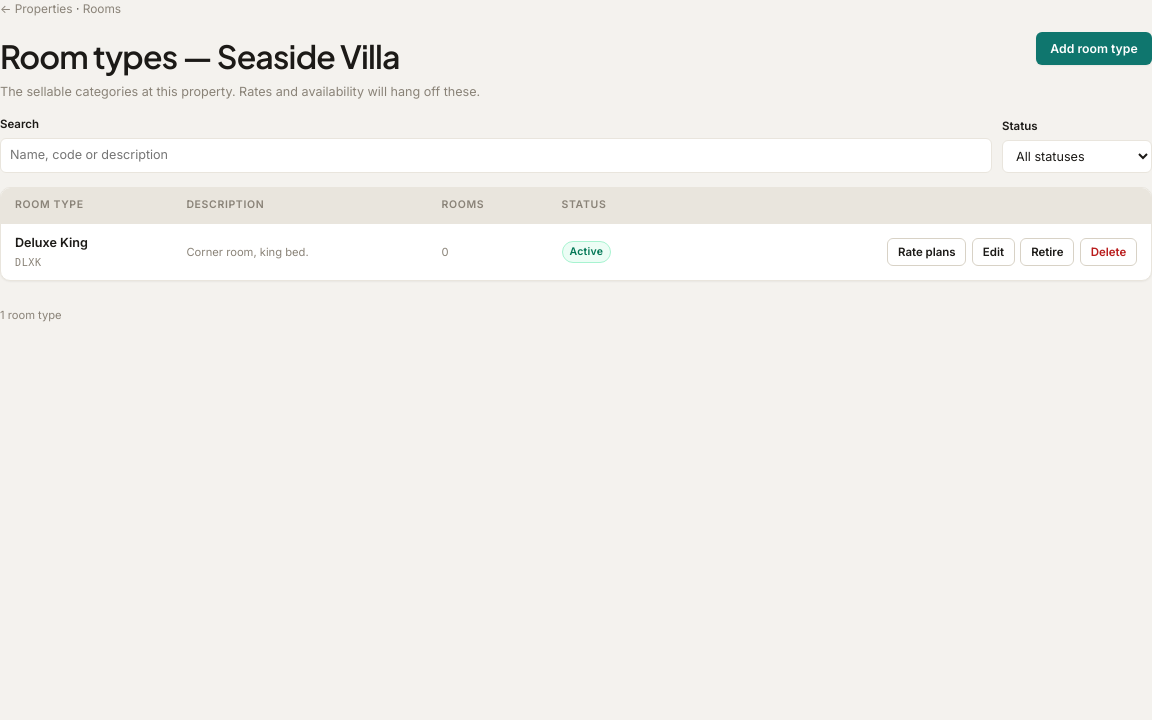
RoomTypesPage — retire, restore and delete › shows the API conflict verbatim when a delete races an assignment
The width and height of the screenshot is (1152, 720).
Check: the text "Deluxe King" is shown, box [15, 235, 88, 250]
Click the button "Delete".
click(1108, 252)  # box [1080, 238, 1137, 266]
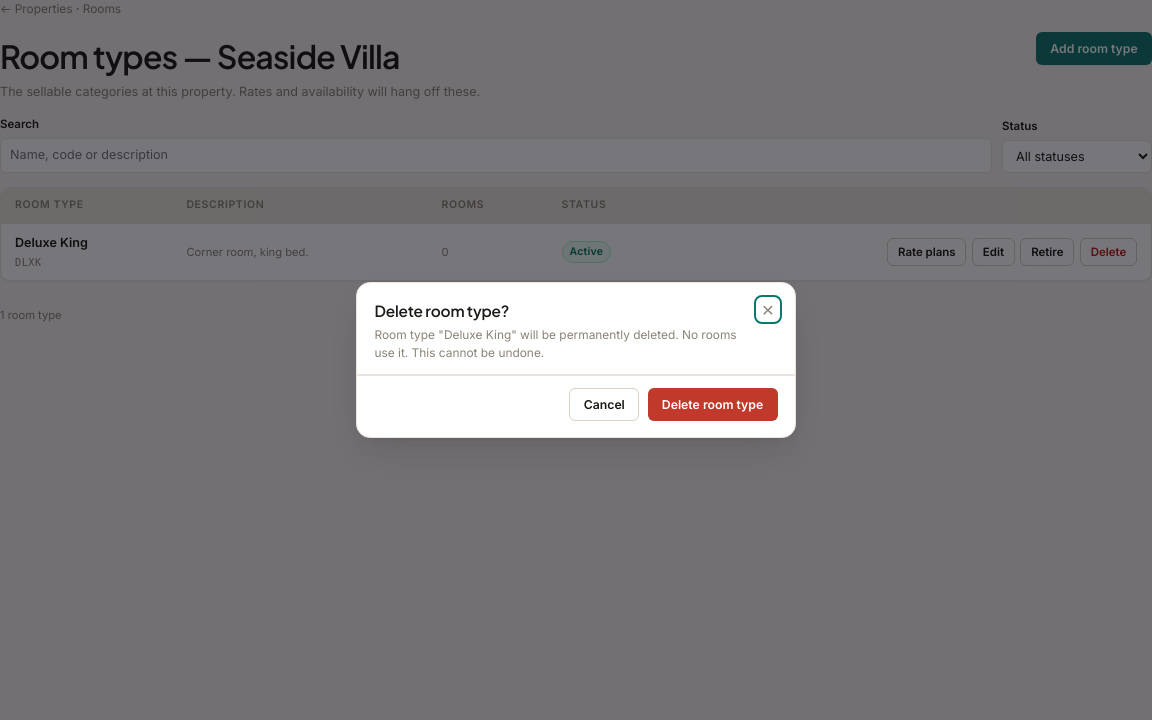
Click the button "Delete room type".
click(712, 405)  # box [648, 388, 778, 421]
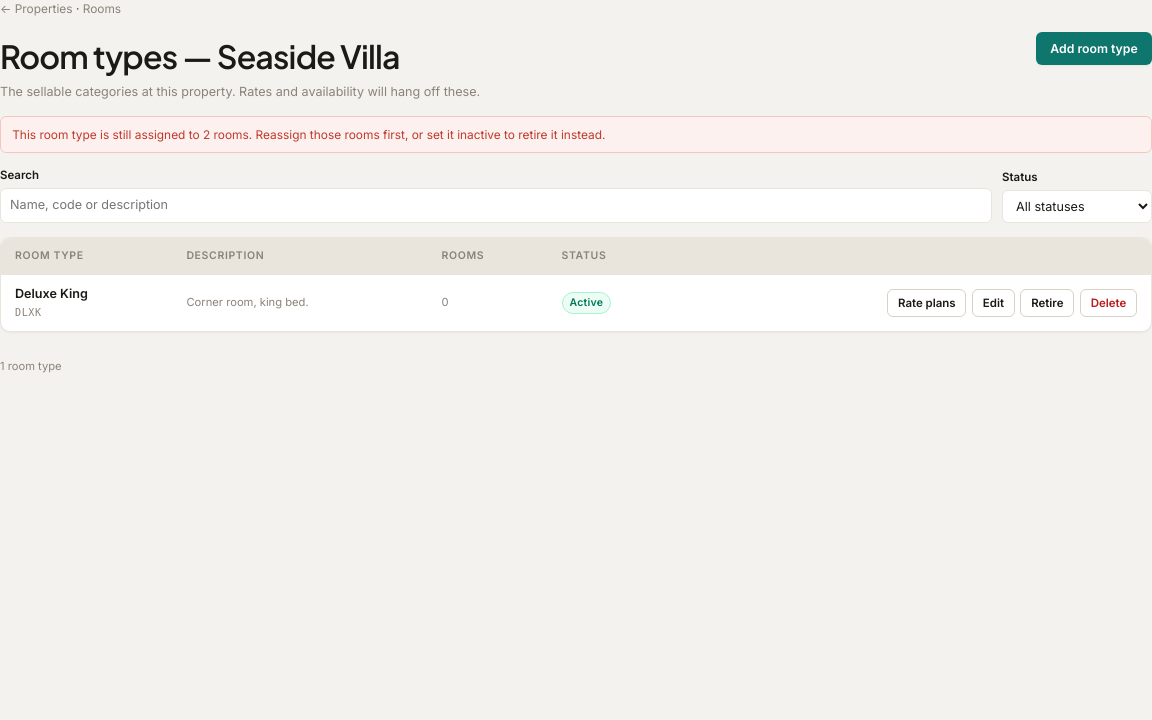
Check: the 1st message shows "This room type is still assigned to 2 rooms.", box [12, 127, 605, 142]
